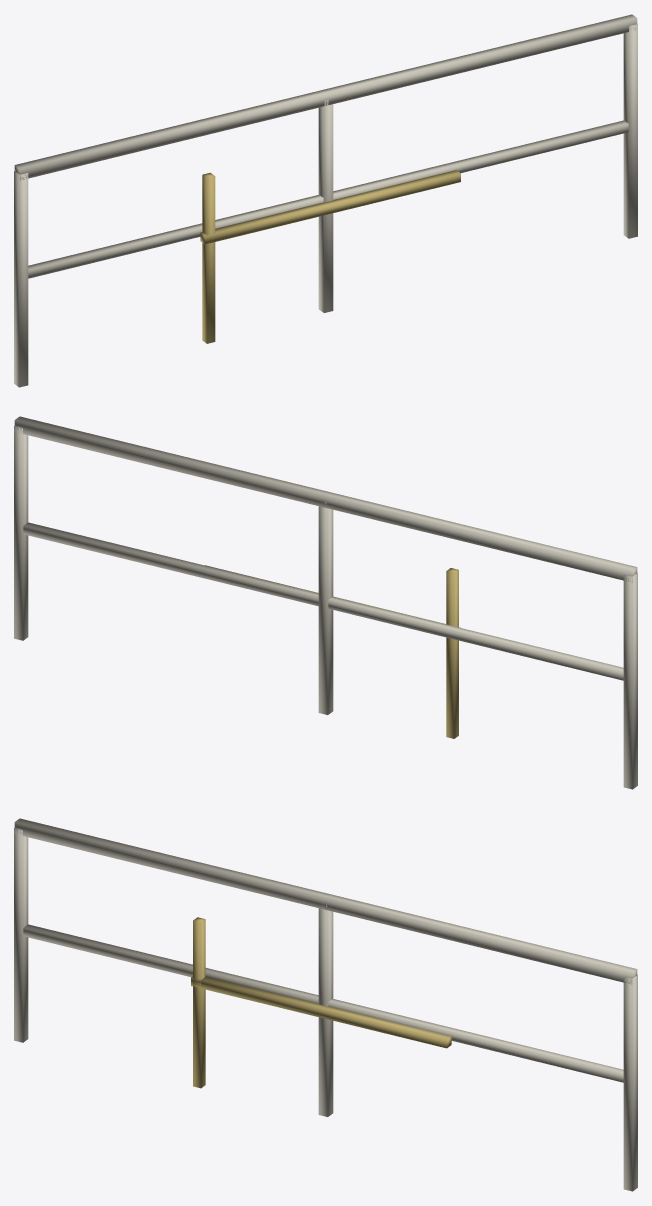
File: civic_gate_l300_h100.glb
The picture shows the model from 3 angles, top to bottom: view 1: azimuth 30°, elevation 25°; view 2: azimuth 150°, elevation 25°; view 3: azimuth 330°, elevation 25°; orthographic projection.
Visible parts, largest first — view 1: world; view 2: world; view 3: world.
Part boxes in pixels (x1,y1,x2,y2): world: (14,14,637,387); world: (14,416,637,789); world: (14,818,637,1191).
Bounding box in the file's own units: 3.05 × 1.03 × 0.0825.
